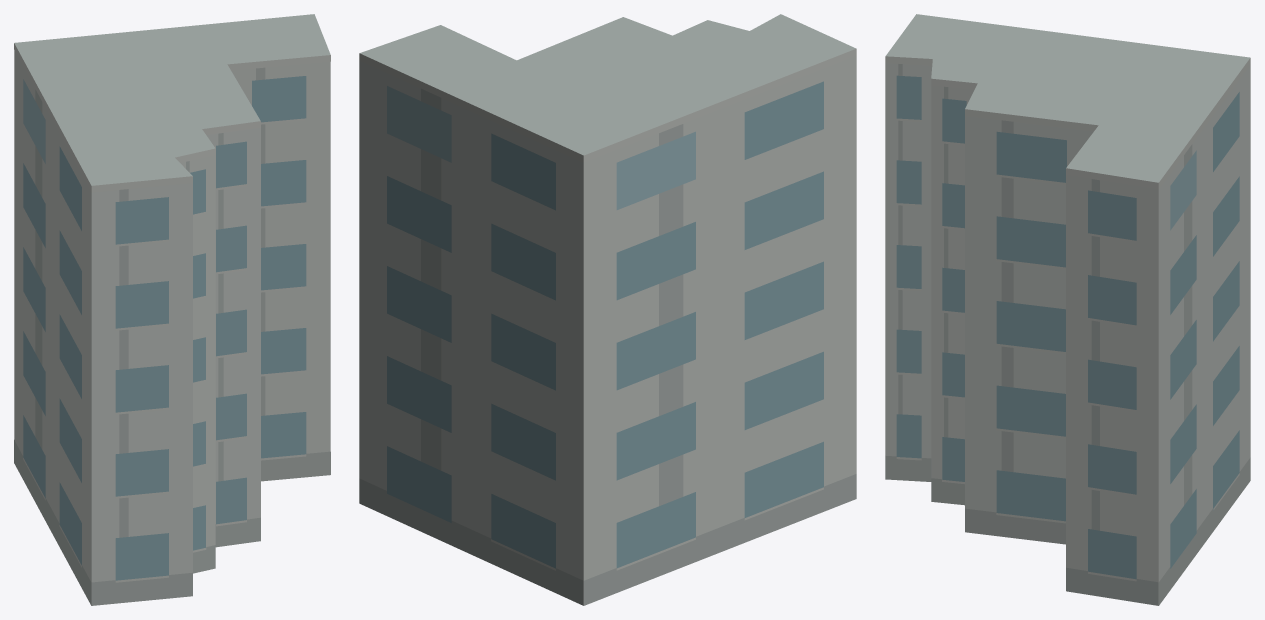
Rendered from survey-upis-32925856.glb.
3 renders of one model, left to right at view 1: azimuth 30°, elevation 25°; view 2: azimuth 150°, elevation 25°; view 3: azimuth 270°, elevation 25°, orthographic. The views are drawn at different scales.
Visible parts, largest first — view 1: survey-upis-32925856.tmp; view 2: survey-upis-32925856.tmp; view 3: survey-upis-32925856.tmp.
Boxes of the visible parts, <box> form: survey-upis-32925856.tmp: <box>14,14,330,605</box>; survey-upis-32925856.tmp: <box>359,14,856,605</box>; survey-upis-32925856.tmp: <box>885,14,1250,605</box>.
Size of the model in its own units: 13.06 by 15.25 by 11.94.
